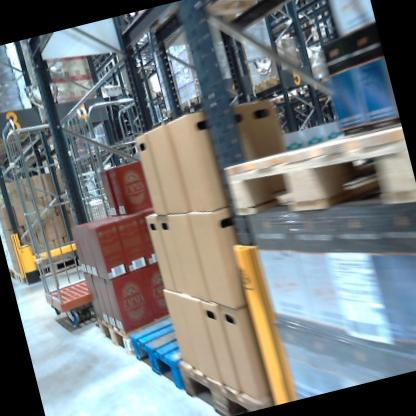pallet: (217, 113, 416, 252), (125, 303, 232, 416), (92, 288, 208, 368), (175, 341, 280, 416), (138, 0, 304, 40), (10, 250, 87, 291), (300, 74, 336, 97), (262, 90, 301, 110), (169, 95, 202, 116), (9, 263, 18, 283)
